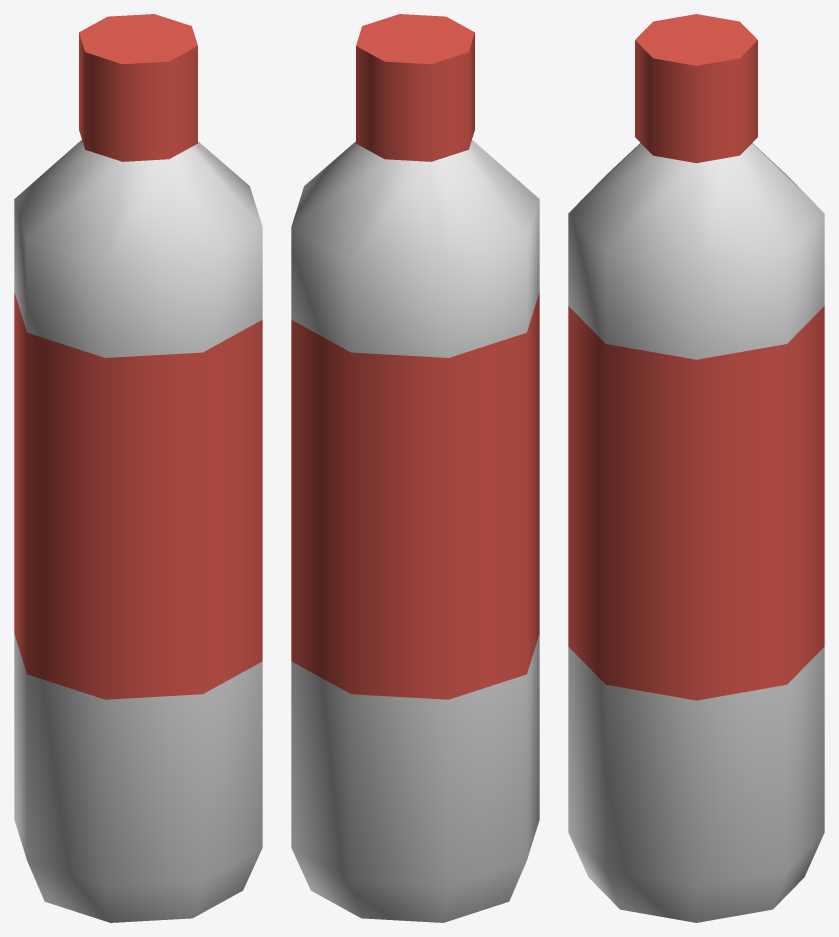
The model's file is VerfFles.fbx.
3 views of the same model, side by side, from view 1: azimuth 30°, elevation 25°; view 2: azimuth 150°, elevation 25°; view 3: azimuth 270°, elevation 25° (orthographic).
Parts seen in each view (by area): view 1: VerfFles; view 2: VerfFles; view 3: VerfFles.
Part boxes in pixels (x1,y1,x2,y2): VerfFles: (14, 14, 262, 922); VerfFles: (291, 14, 539, 922); VerfFles: (568, 14, 824, 922).
Size of the model in its own units: 0.0694 by 0.25 by 0.0694.
